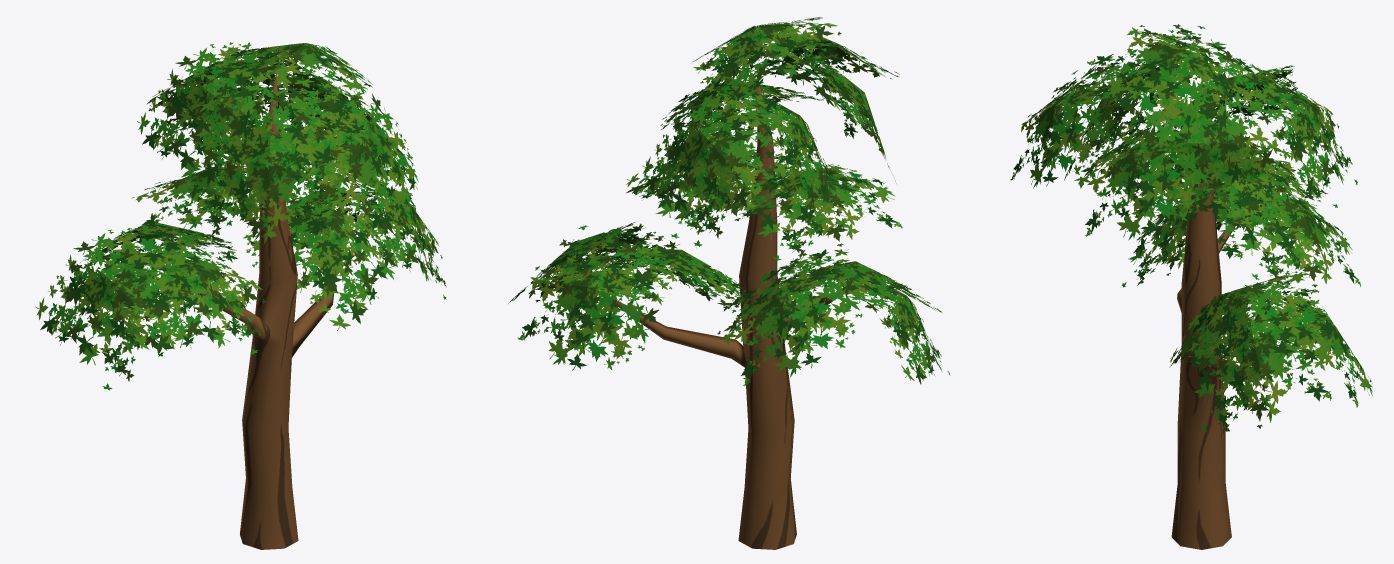
The model's file is Tree1.fbx.
3 renders of one model, left to right at view 1: azimuth 30°, elevation 25°; view 2: azimuth 150°, elevation 25°; view 3: azimuth 270°, elevation 25°, orthographic.
Visible parts, largest first — view 1: Tree1; view 2: Tree1; view 3: Tree1.
Boxes of the visible parts, bbox=[...] form: Tree1: bbox=[35, 42, 446, 549]; Tree1: bbox=[508, 17, 950, 549]; Tree1: bbox=[1010, 24, 1372, 549].
Bounding box in the file's own units: 554 × 650 × 454.
1 material, 1 textured.
